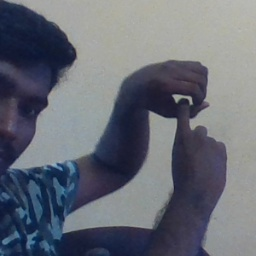Q: (120, 53, 236, 185)
